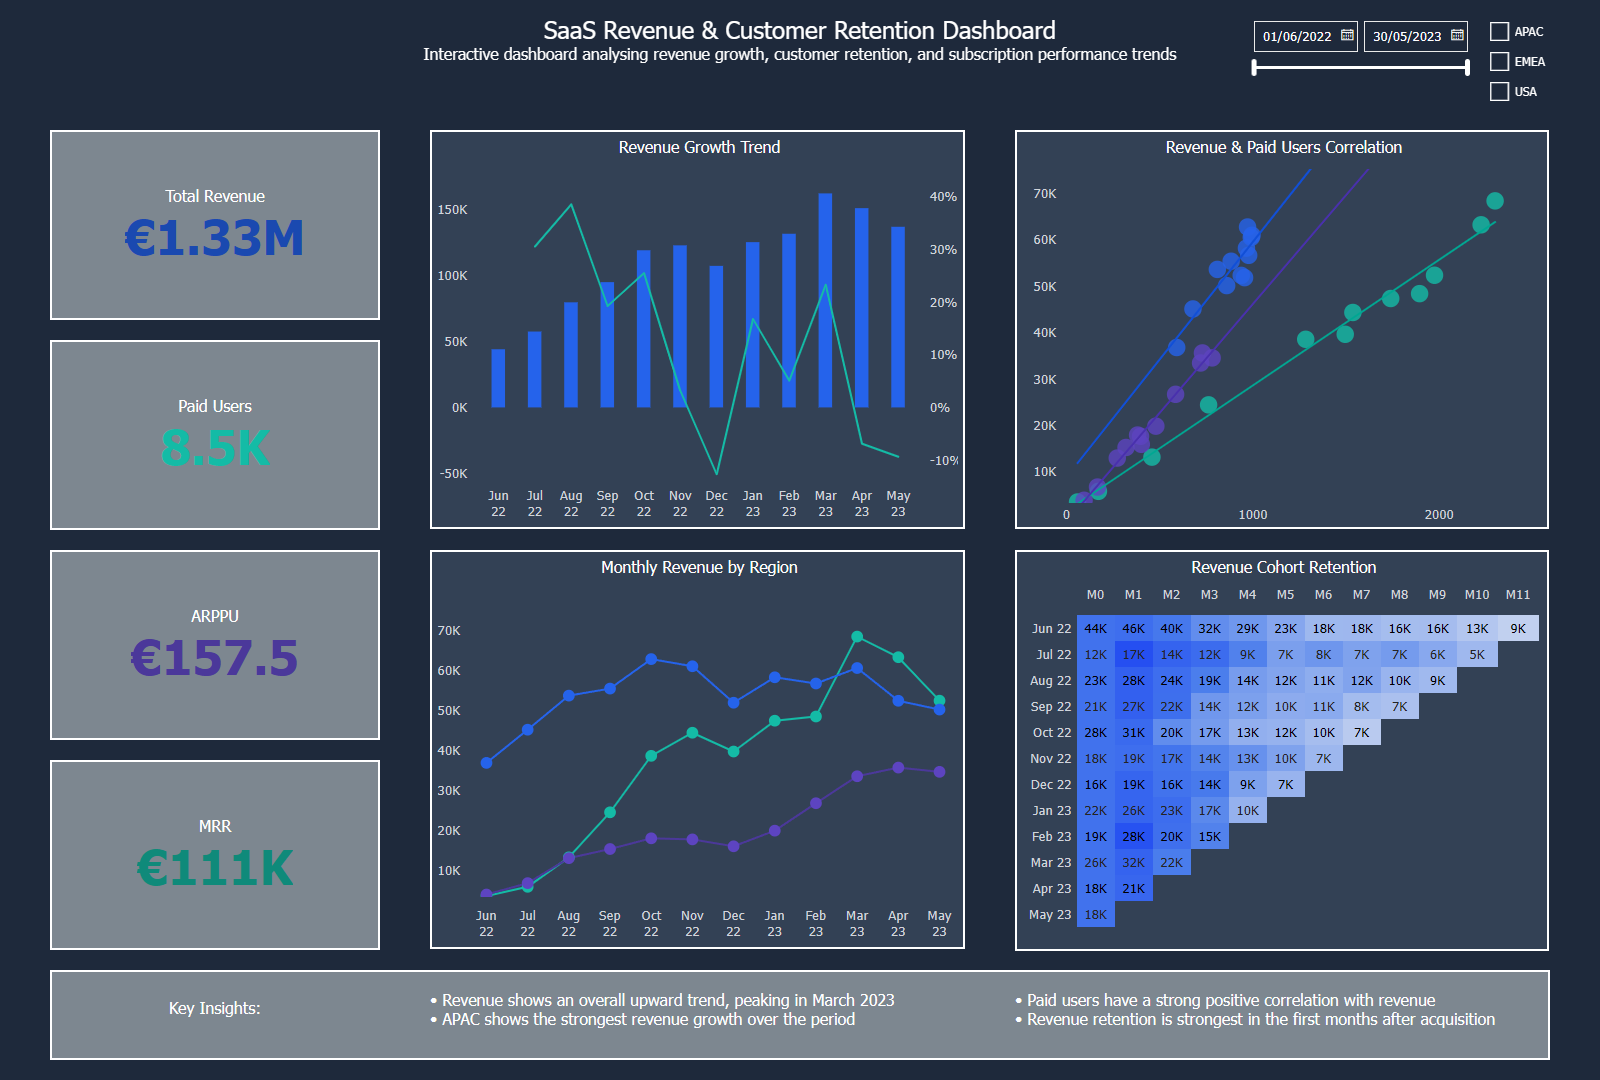

The page's visual inventory and layout, read from the dashboard file:
{"tool":"powerbi","page":{"name":"Page 1","canvas":[1600,1080],"ordinal":0},"visuals":[{"type":"cardVisual","fields":{"Data":["_Measures.Total Revenue"]},"box":[50,130,329.5,189.6],"z":0},{"type":"cardVisual","fields":{"Data":["_Measures.Paid Users"]},"box":[50,340,329.5,189.6],"z":1000},{"type":"cardVisual","fields":{"Data":["_Measures.ARPPU"]},"box":[50,550,329.5,189.6],"z":2000},{"type":"cardVisual","fields":{"Data":["_Measures.MRR"]},"box":[50,760,329.5,189.6],"z":3000},{"type":"lineClusteredColumnComboChart","title":"Revenue Growth Trend","fields":{"Y":["_Measures.Total Revenue"],"Y2":["_Measures.Revenue Growth %"],"Category":["Calendar.Month Year"]},"box":[430,130,534.9,399.5],"z":4000},{"type":"lineChart","title":"Monthly Revenue by Region","fields":{"Category":["Calendar.Month Year"],"Y":["_Measures.Total Revenue"],"Series":["saas_revenue.location"]},"box":[430,550,534.9,399.5],"z":5000},{"type":"scatterChart","title":"Revenue & Paid Users Correlation","fields":{"X":["_Measures.Paid Users"],"Y":["_Measures.Total Revenue"],"Category":["Calendar.Month Year"],"Series":["saas_revenue.location"]},"box":[1015,130,533.8,399.5],"z":6000},{"type":"slicer","fields":{"Values":["Calendar.Date"]},"box":[1241,11,242,75.7],"z":7000},{"type":"listSlicer","fields":{"Values":["saas_revenue.location"]},"box":[1484,11,86.2,115.3],"z":8000},{"type":"pivotTable","title":"Revenue Cohort Retention","fields":{"Rows":["saas_revenue.Cohort Month Label"],"Columns":["saas_revenue.Cohort Period"],"Values":["_Measures.Total Revenue"]},"box":[1015,550,534.5,400.6],"z":9000},{"type":"textbox","box":[0,10.1,1600.4,67.2],"z":10000},{"type":"textbox","box":[50.1,970,1500,90],"z":10500},{"type":"textbox","box":[50.1,993.3,330,48.9],"z":11000},{"type":"textbox","box":[430,970,535,90],"z":12000},{"type":"textbox","box":[1015.4,970,534.5,89.7],"z":14000}]}

Visuals, with their boxes in screenshot pixels (x1, y1, x2, y2), scaled from the page's 1600x1080 canvas onto the 1600x1080 screenshot:
cardVisual - _Measures.Total Revenue: <bbox>50, 130, 380, 320</bbox>
cardVisual - _Measures.Paid Users: <bbox>50, 340, 380, 530</bbox>
cardVisual - _Measures.ARPPU: <bbox>50, 550, 380, 740</bbox>
cardVisual - _Measures.MRR: <bbox>50, 760, 380, 950</bbox>
"Revenue Growth Trend" lineClusteredColumnComboChart: <bbox>430, 130, 965, 530</bbox>
"Monthly Revenue by Region" lineChart: <bbox>430, 550, 965, 950</bbox>
"Revenue & Paid Users Correlation" scatterChart: <bbox>1015, 130, 1549, 530</bbox>
slicer - Calendar.Date: <bbox>1241, 11, 1483, 87</bbox>
listSlicer - saas_revenue.location: <bbox>1484, 11, 1570, 126</bbox>
"Revenue Cohort Retention" pivotTable: <bbox>1015, 550, 1550, 951</bbox>
textbox: <bbox>0, 10, 1599, 77</bbox>
textbox: <bbox>50, 970, 1550, 1060</bbox>
textbox: <bbox>50, 993, 380, 1042</bbox>
textbox: <bbox>430, 970, 965, 1060</bbox>
textbox: <bbox>1015, 970, 1550, 1060</bbox>
